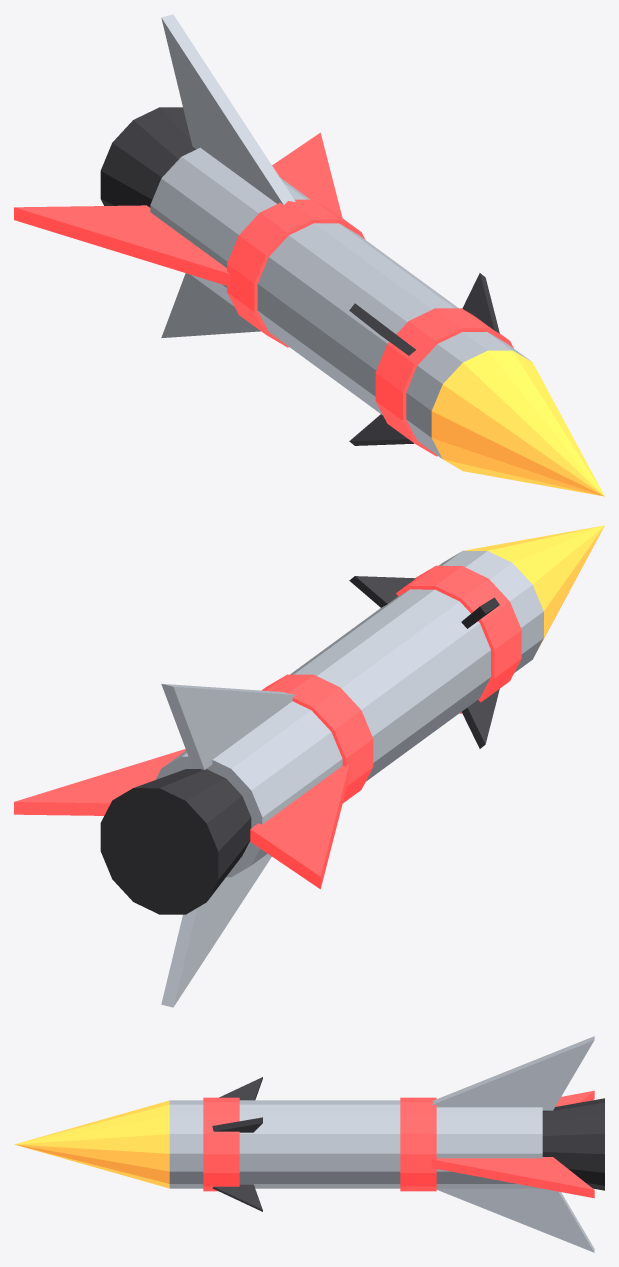
Rendered from rocket.glb.
3 renders of one model, top to bottom at view 1: azimuth 30°, elevation 25°; view 2: azimuth 150°, elevation 25°; view 3: azimuth 270°, elevation 25°, orthographic. The views are drawn at different scales.
Visible parts, largest first — view 1: rocket; view 2: rocket; view 3: rocket.
Boxes of the visible parts, left/top/right/bottom form: rocket: left=14, top=14, right=604, bottom=496; rocket: left=14, top=525, right=604, bottom=1007; rocket: left=14, top=1036, right=604, bottom=1252.
Size of the model in its own units: 0.453 by 0.453 by 1.14.
